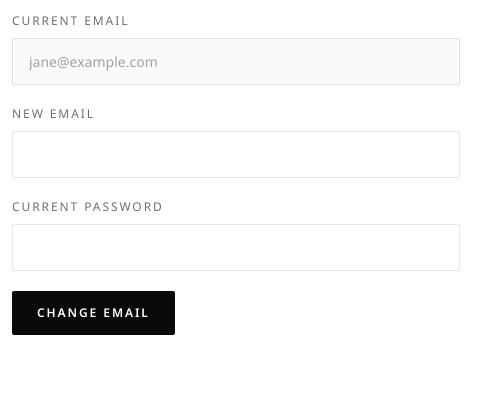
Scenario: ChangeEmailForm › submits the new email and password, then shows the confirmation message
Type "new@example.com" into the field labelled "New email". click: (236, 154)
box: [12, 131, 460, 178]
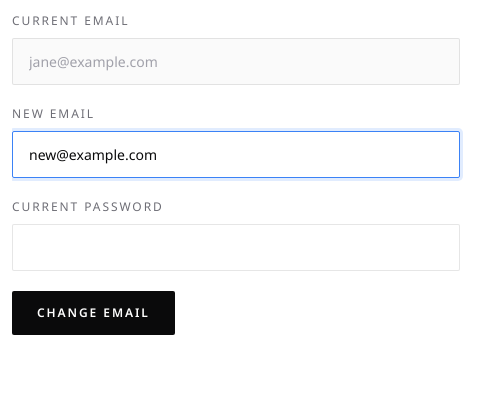
Type "correct-password" into the password field labelled "Current password". click: (236, 248)
box: [12, 224, 460, 271]
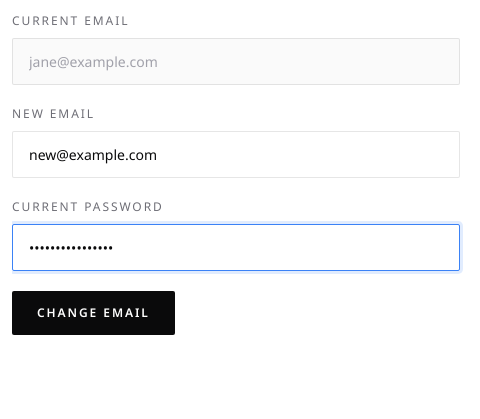
Click the button "Change email". click: (93, 313)
box: [12, 291, 175, 335]
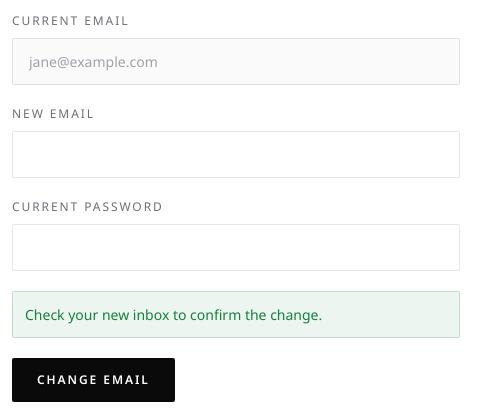
Expected: the text "Check your new inbox to confirm the change." is shown, [12, 291, 460, 338]
